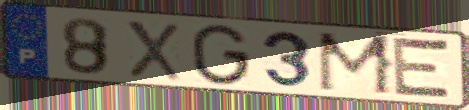3: (256, 29, 318, 91)
8: (59, 16, 112, 76)
E: (391, 33, 455, 104)
G: (190, 22, 252, 88)
M: (315, 30, 395, 98)
X: (123, 18, 184, 83)
